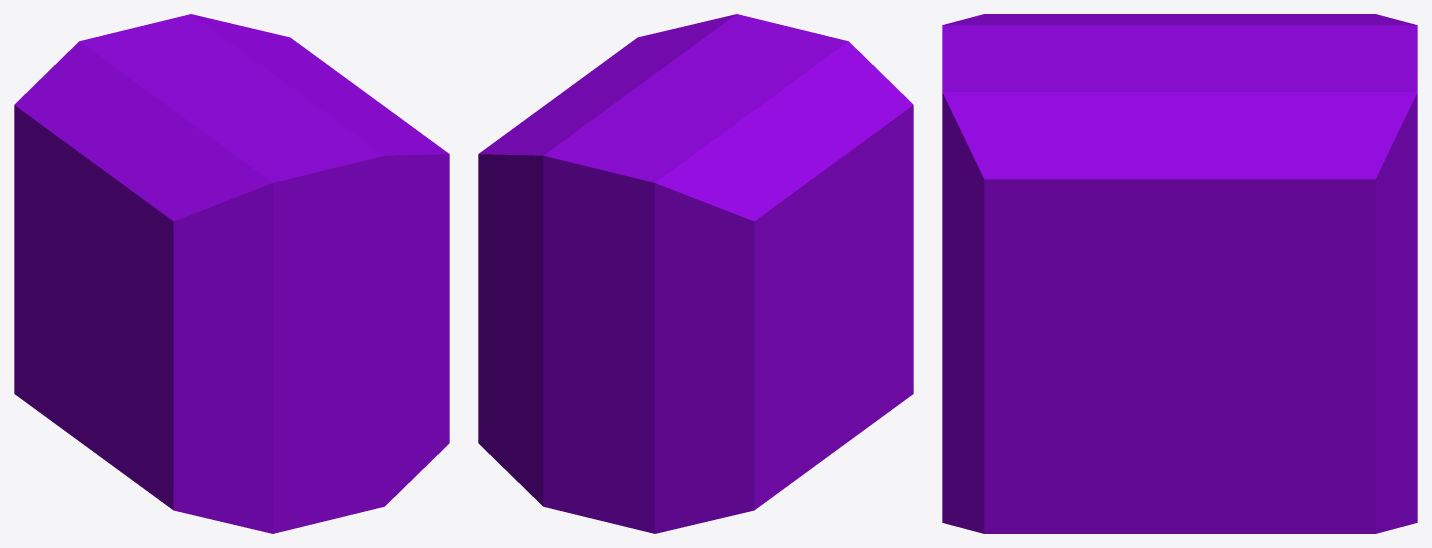
3 renders of one model, left to right at view 1: azimuth 30°, elevation 25°; view 2: azimuth 150°, elevation 25°; view 3: azimuth 270°, elevation 25°, orthographic. The views are drawn at different scales.
Visible parts, largest first — view 1: Cube; view 2: Cube; view 3: Cube.
Boxes of the visible parts, bbox=[...] form: Cube: bbox=[14, 14, 449, 533]; Cube: bbox=[478, 14, 913, 533]; Cube: bbox=[942, 14, 1417, 533].
Bounding box in the file's own units: 200 × 243 × 243.
